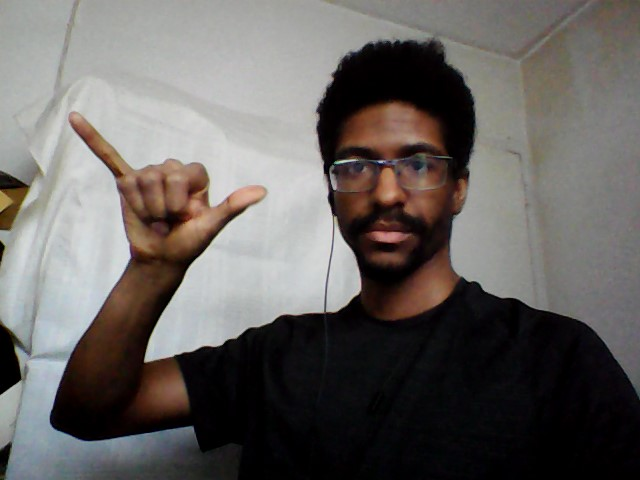y: (63, 105, 272, 276)
